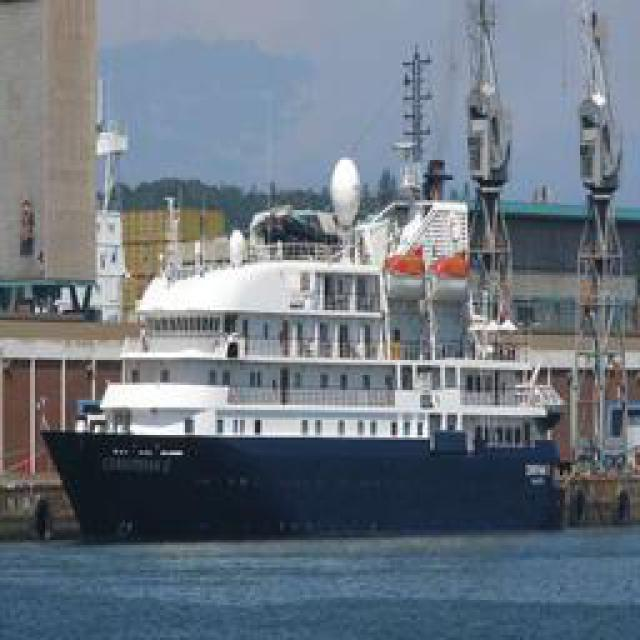Ship: (47, 125, 600, 533)
